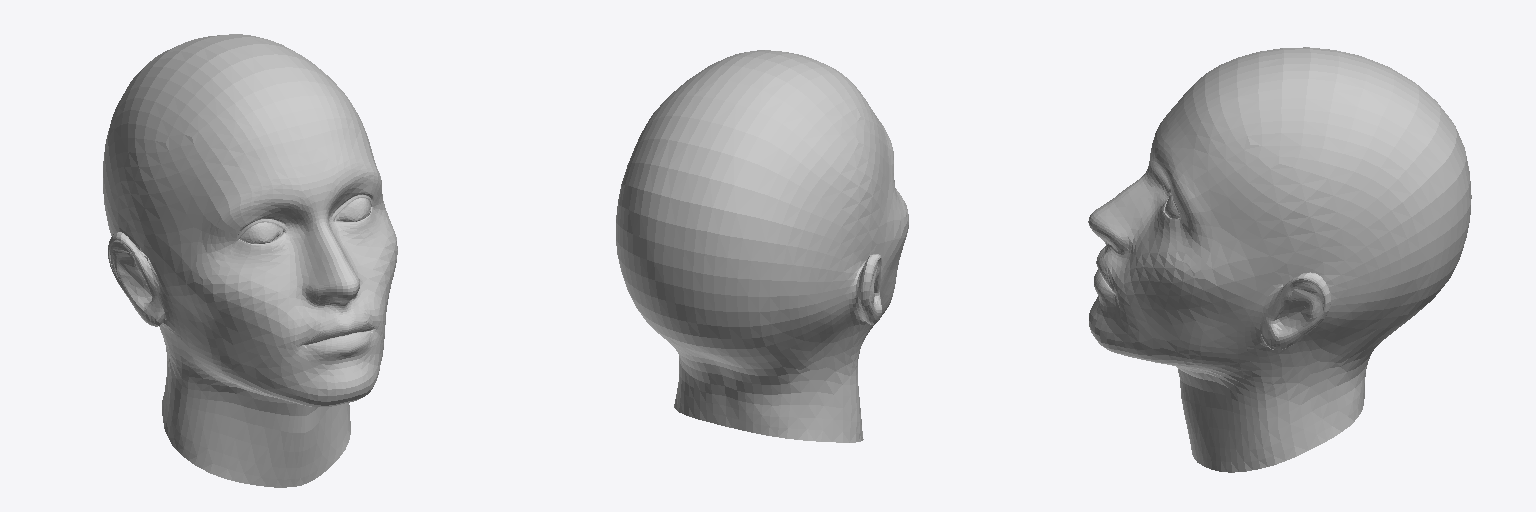
The picture shows the model from 3 angles: view 1: azimuth 30°, elevation 25°; view 2: azimuth 150°, elevation 25°; view 3: azimuth 270°, elevation 25°; orthographic projection.
Parts seen in each view (by area): view 1: FaceGen; view 2: FaceGen; view 3: FaceGen.
Part boxes in pixels (left/top/right/bottom): FaceGen: left=103, top=34, right=397, bottom=487; FaceGen: left=616, top=50, right=908, bottom=442; FaceGen: left=1088, top=47, right=1471, bottom=472.
Bounding box in the file's own units: 188 × 283 × 248.